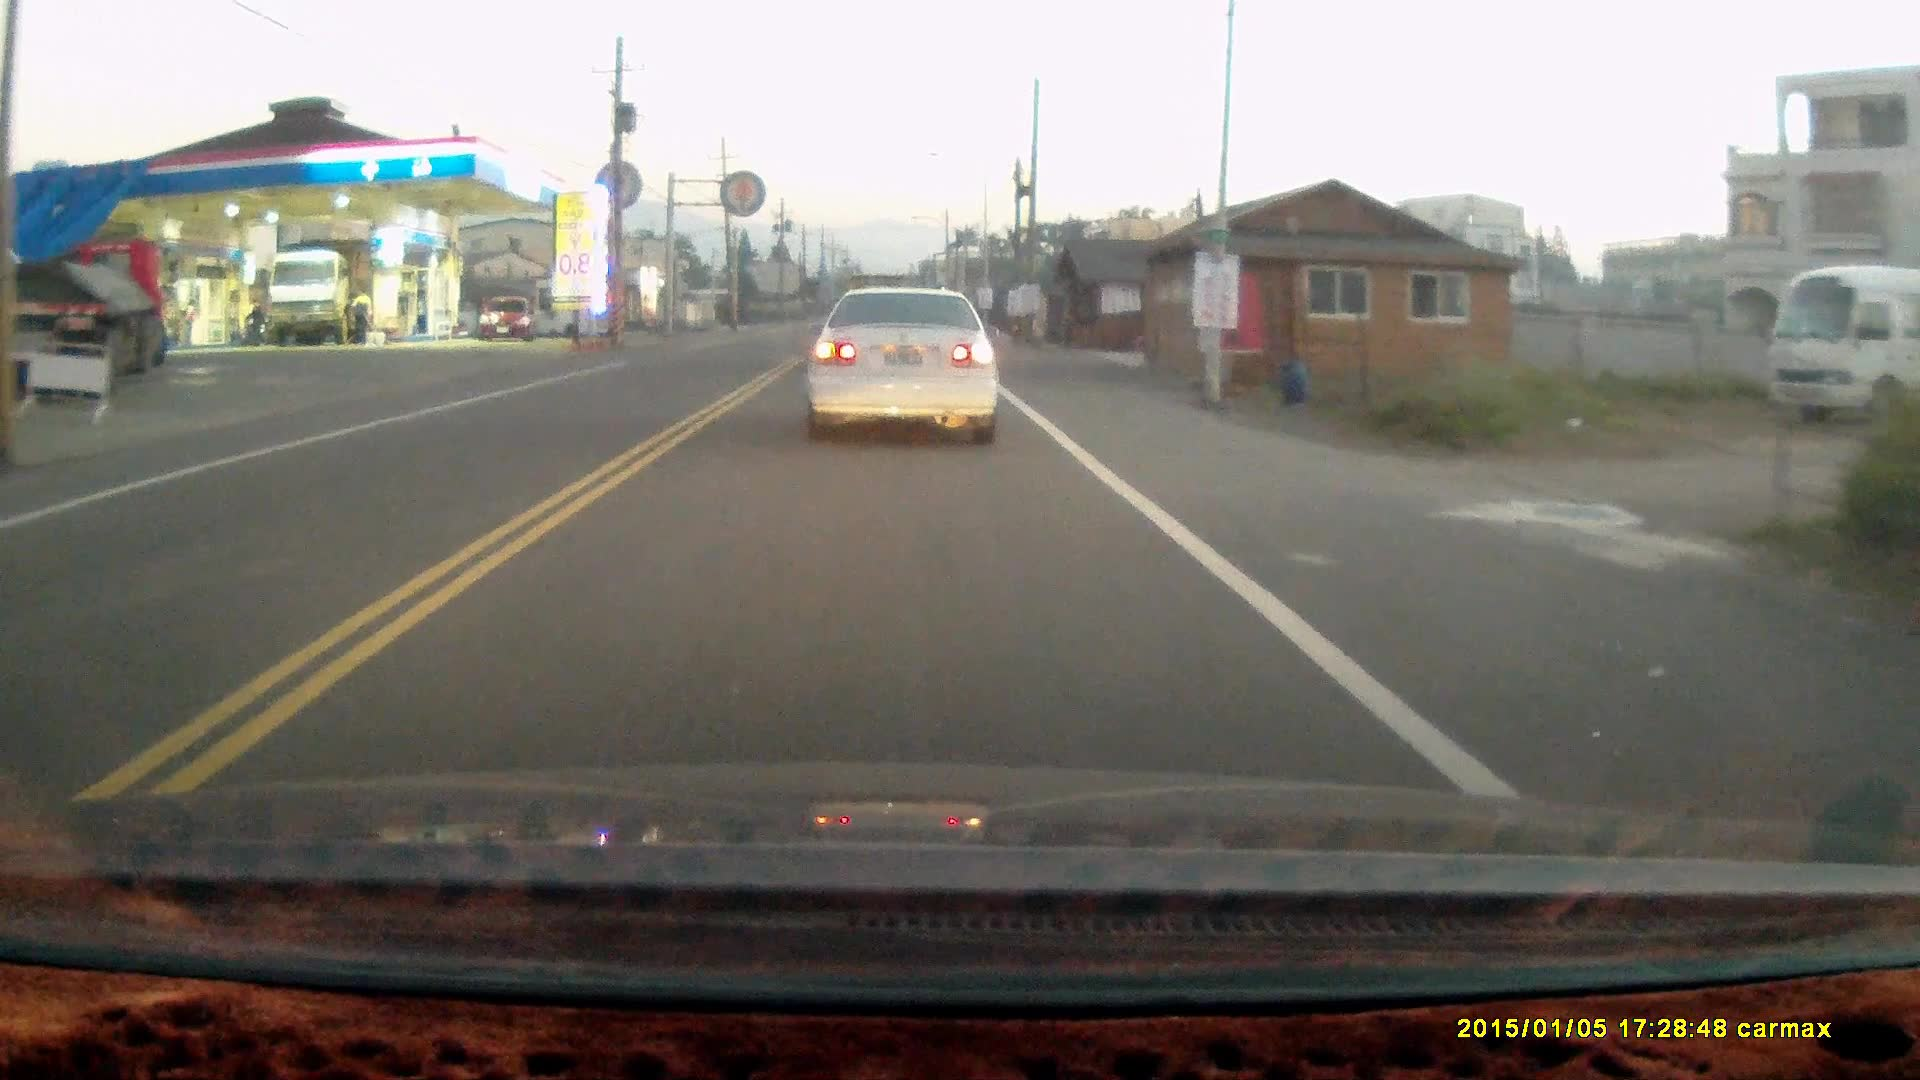pedestrian: (344, 284, 375, 338)
vehicle: (801, 276, 1005, 440), (24, 227, 171, 393), (268, 246, 374, 347), (482, 296, 535, 340)
